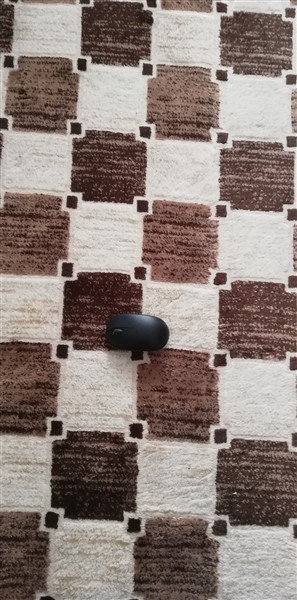mouse: (101, 311, 172, 357)
